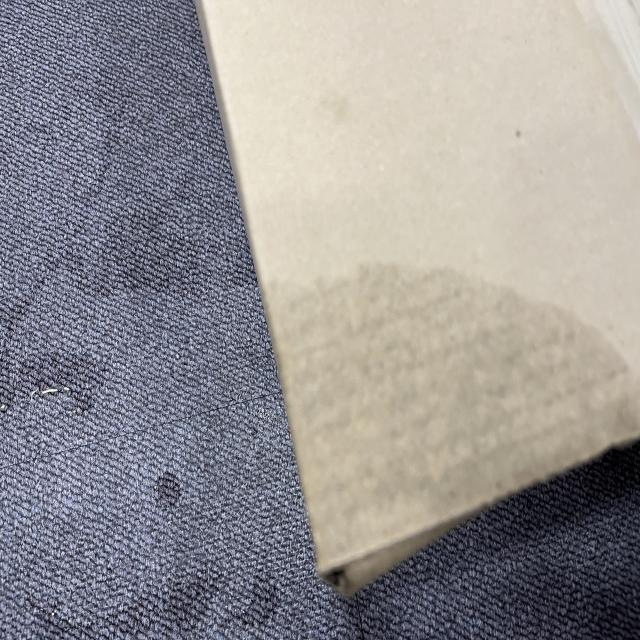wet: (275, 217, 640, 558)
